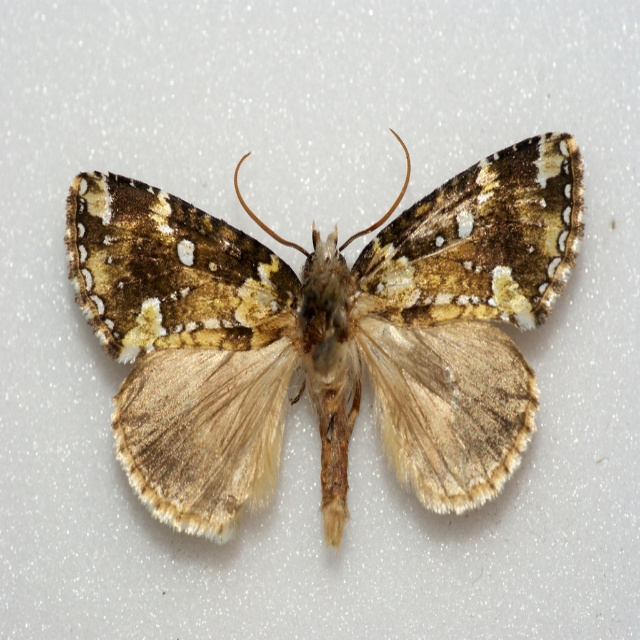Butterfly: (76, 128, 562, 577)
